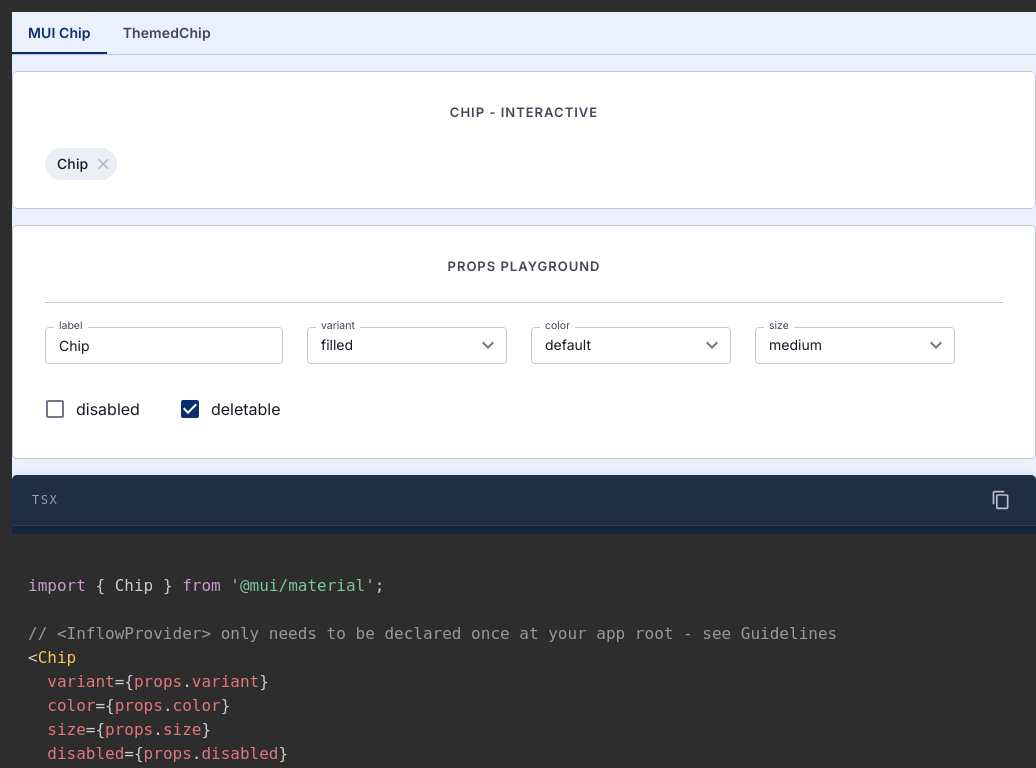
ChipDemo › opens the ThemedChip playground on the Suggested design-system example
The width and height of the screenshot is (1036, 768).
Step 1. Click the tab "ThemedChip" → (167, 33), box [107, 12, 227, 54]
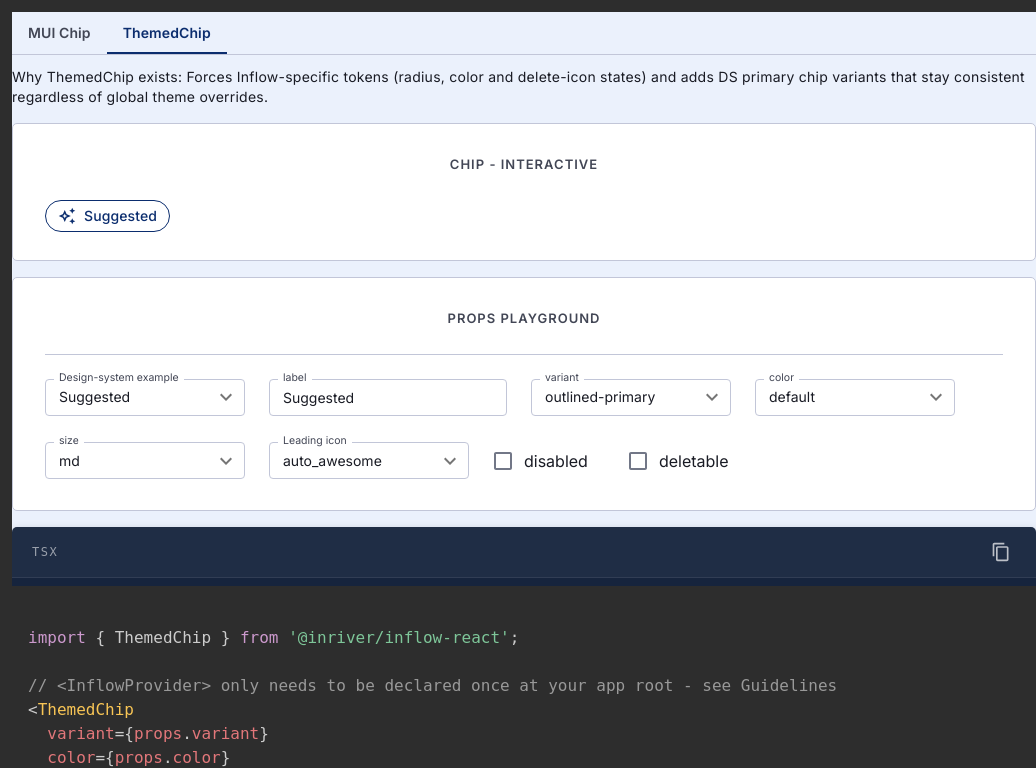
Now the dropdown named "Design-system example" reads "Suggested", box [59, 388, 130, 405]
Now the text "Suggested" is shown, box [45, 200, 170, 232]
